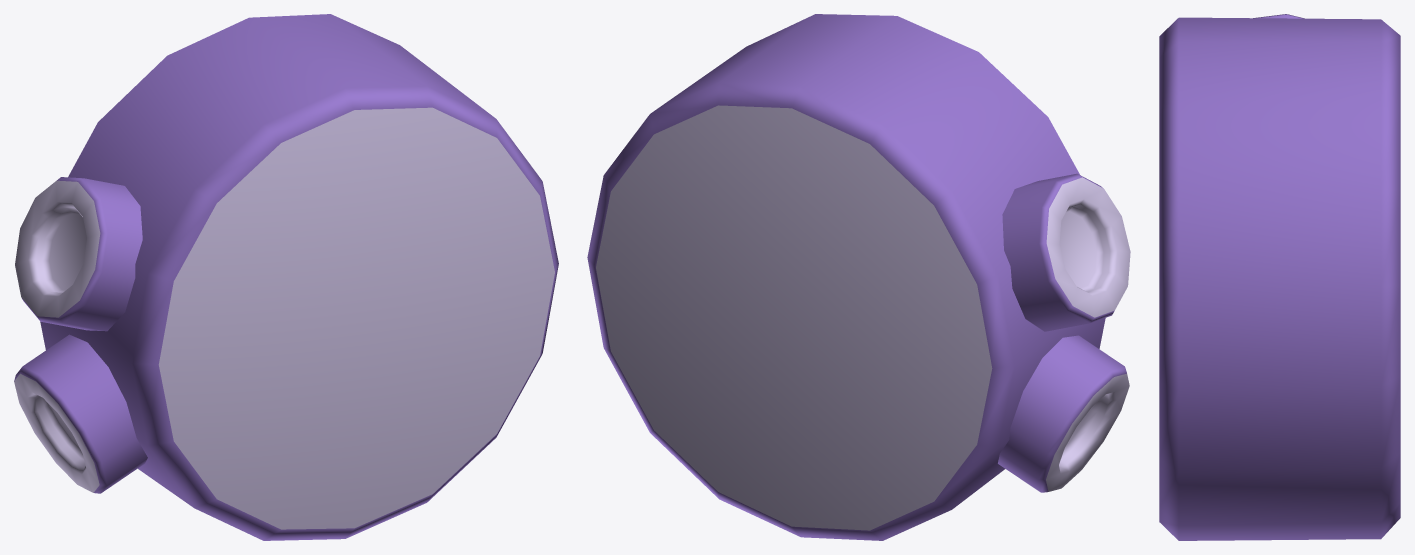
Rendered from Octopus_Tentacles_2_Slice_2.fbx.
3 renders of one model, left to right at view 1: azimuth 30°, elevation 25°; view 2: azimuth 150°, elevation 25°; view 3: azimuth 270°, elevation 25°, orthographic. The views are drawn at different scales.
Parts seen in each view (by area): view 1: Octopus_Tentacles_2_Slice_2; view 2: Octopus_Tentacles_2_Slice_2; view 3: Octopus_Tentacles_2_Slice_2.
Part boxes in pixels (x1=…): Octopus_Tentacles_2_Slice_2: x1=14, y1=14, x2=558, y2=540; Octopus_Tentacles_2_Slice_2: x1=587, y1=14, x2=1130, y2=540; Octopus_Tentacles_2_Slice_2: x1=1159, y1=14, x2=1400, y2=540.
Size of the model in its own units: 10.32 by 9.33 by 4.31.
